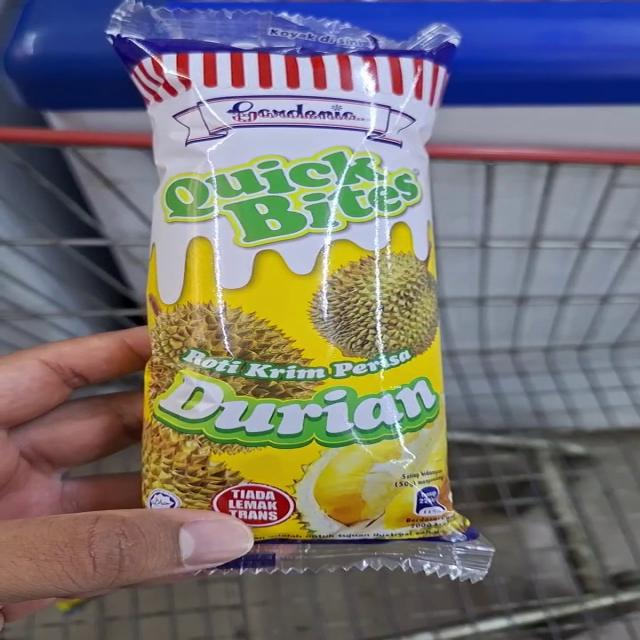Roti: (112, 4, 522, 594)
